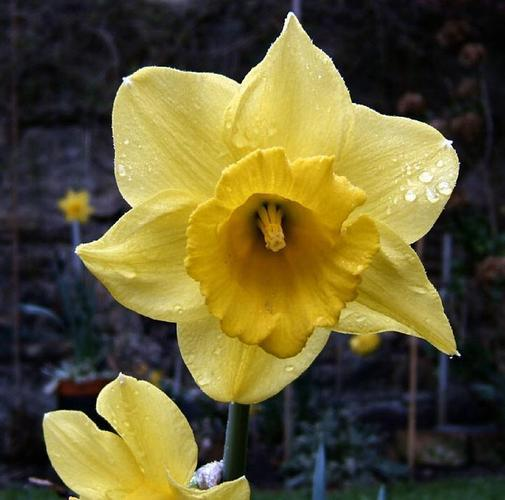flower1: (74, 9, 460, 405)
